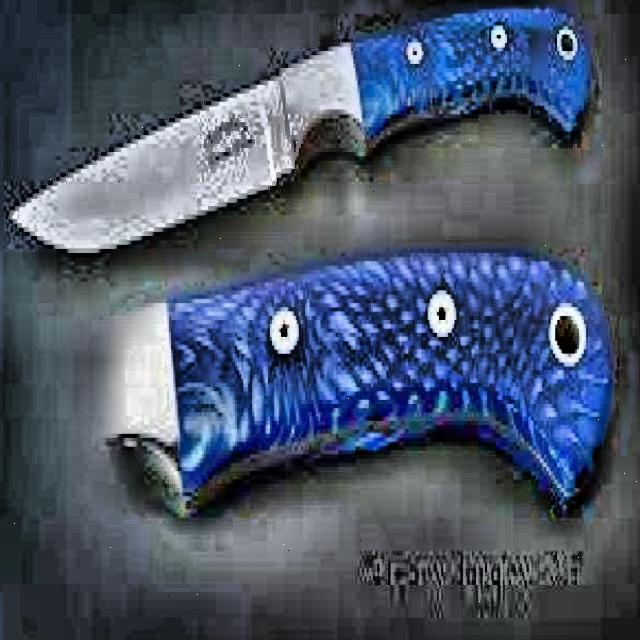knife: (11, 0, 589, 225)
